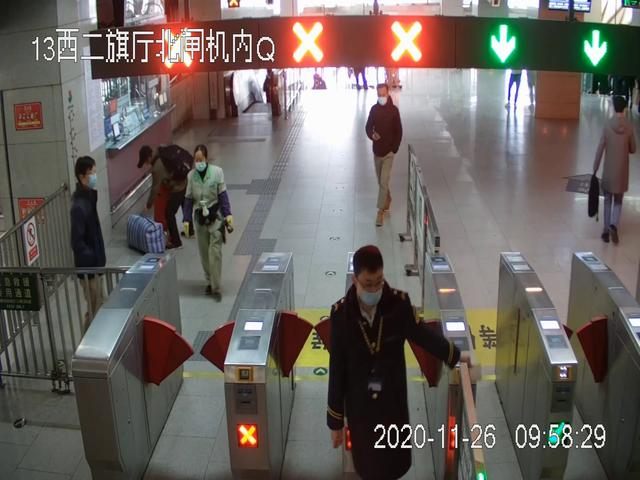person: (328, 245, 470, 480), (589, 95, 640, 245), (185, 145, 234, 301), (68, 156, 107, 339), (137, 145, 199, 251), (365, 82, 402, 226)
